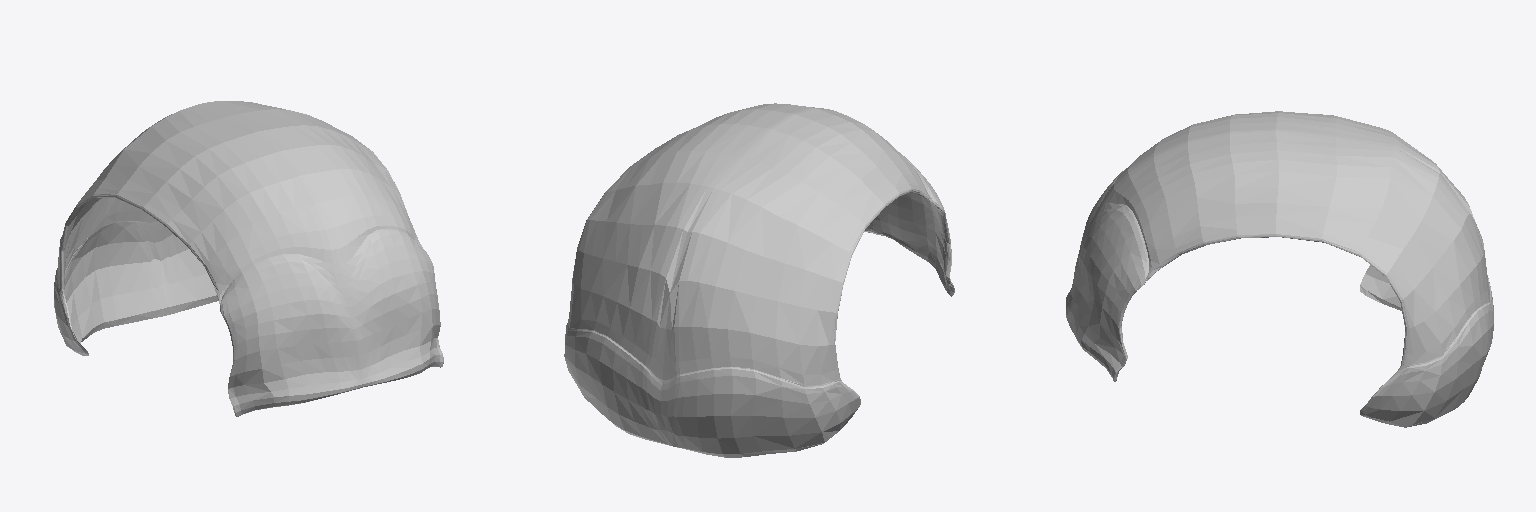
Rendered from Frontalis_Muscle.obj.
3 views of the same model, side by side, from view 1: azimuth 30°, elevation 25°; view 2: azimuth 150°, elevation 25°; view 3: azimuth 270°, elevation 25° (orthographic).
Visible parts, largest first — view 1: Frontalis_Muscle_Left_Mesh group1; view 2: Frontalis_Muscle_Left_Mesh group1; view 3: Frontalis_Muscle_Left_Mesh group1.
Part boxes in pixels (x1,y1,x2,y2): Frontalis_Muscle_Left_Mesh group1: (54,101,443,416); Frontalis_Muscle_Left_Mesh group1: (564,103,954,457); Frontalis_Muscle_Left_Mesh group1: (1066,111,1493,427).
Bounding box in the file's own units: 1.77 × 1.53 × 2.37.